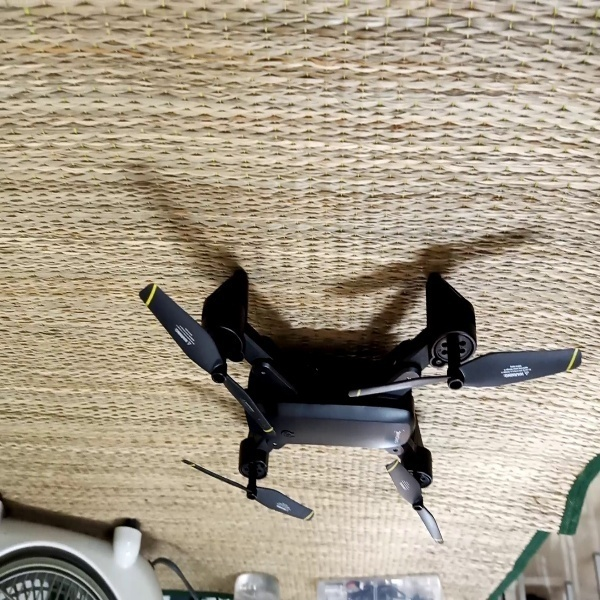drone: (135, 267, 583, 552)
